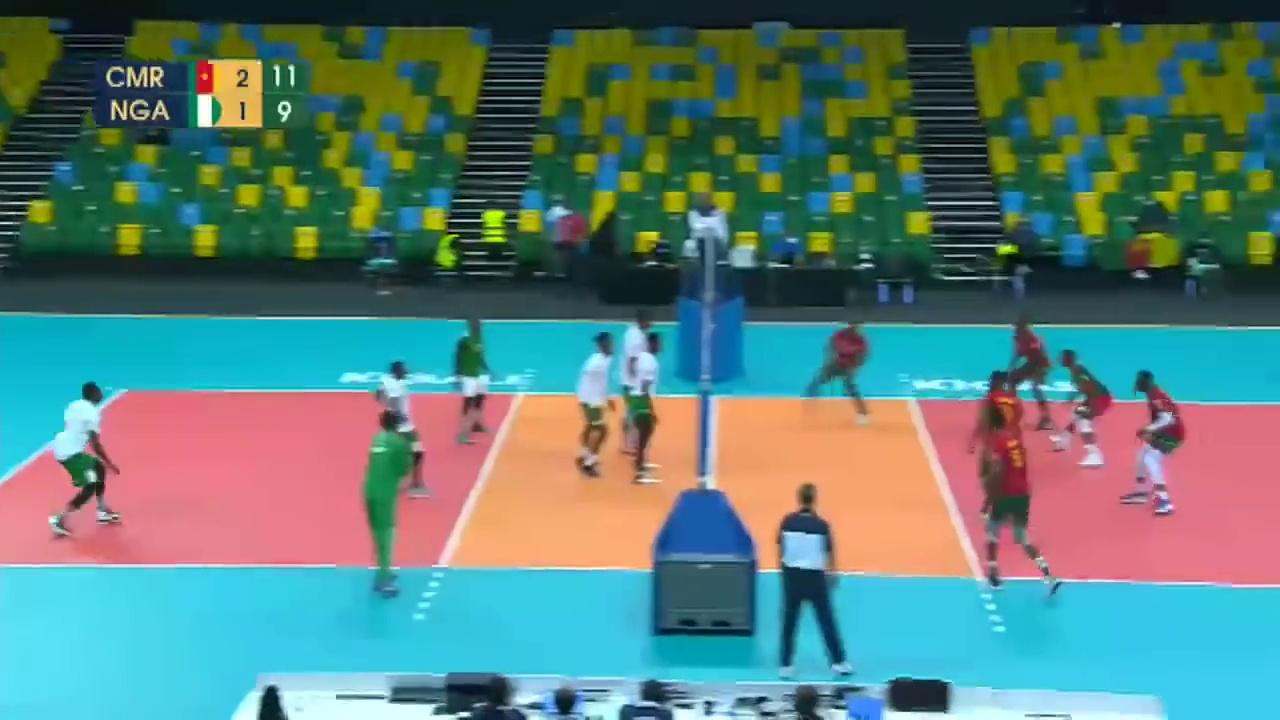player: (973, 433, 1056, 587), (54, 383, 124, 529), (1118, 371, 1185, 512), (980, 368, 1029, 546), (377, 360, 424, 499), (810, 310, 874, 411), (1057, 353, 1112, 466), (572, 331, 614, 476), (1003, 316, 1056, 429), (619, 311, 656, 456), (635, 335, 668, 494), (456, 316, 490, 446)
refree: (770, 488, 854, 674), (689, 186, 729, 294)
